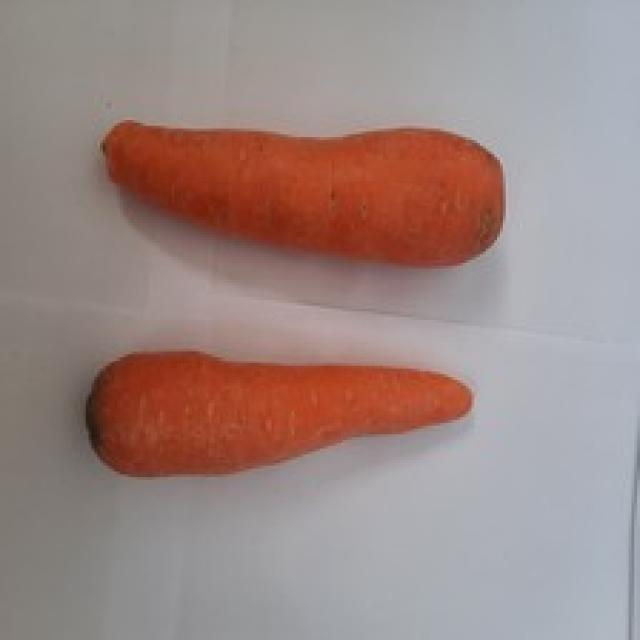Fresh_Carrot: (94, 99, 503, 271), (109, 347, 464, 468)
